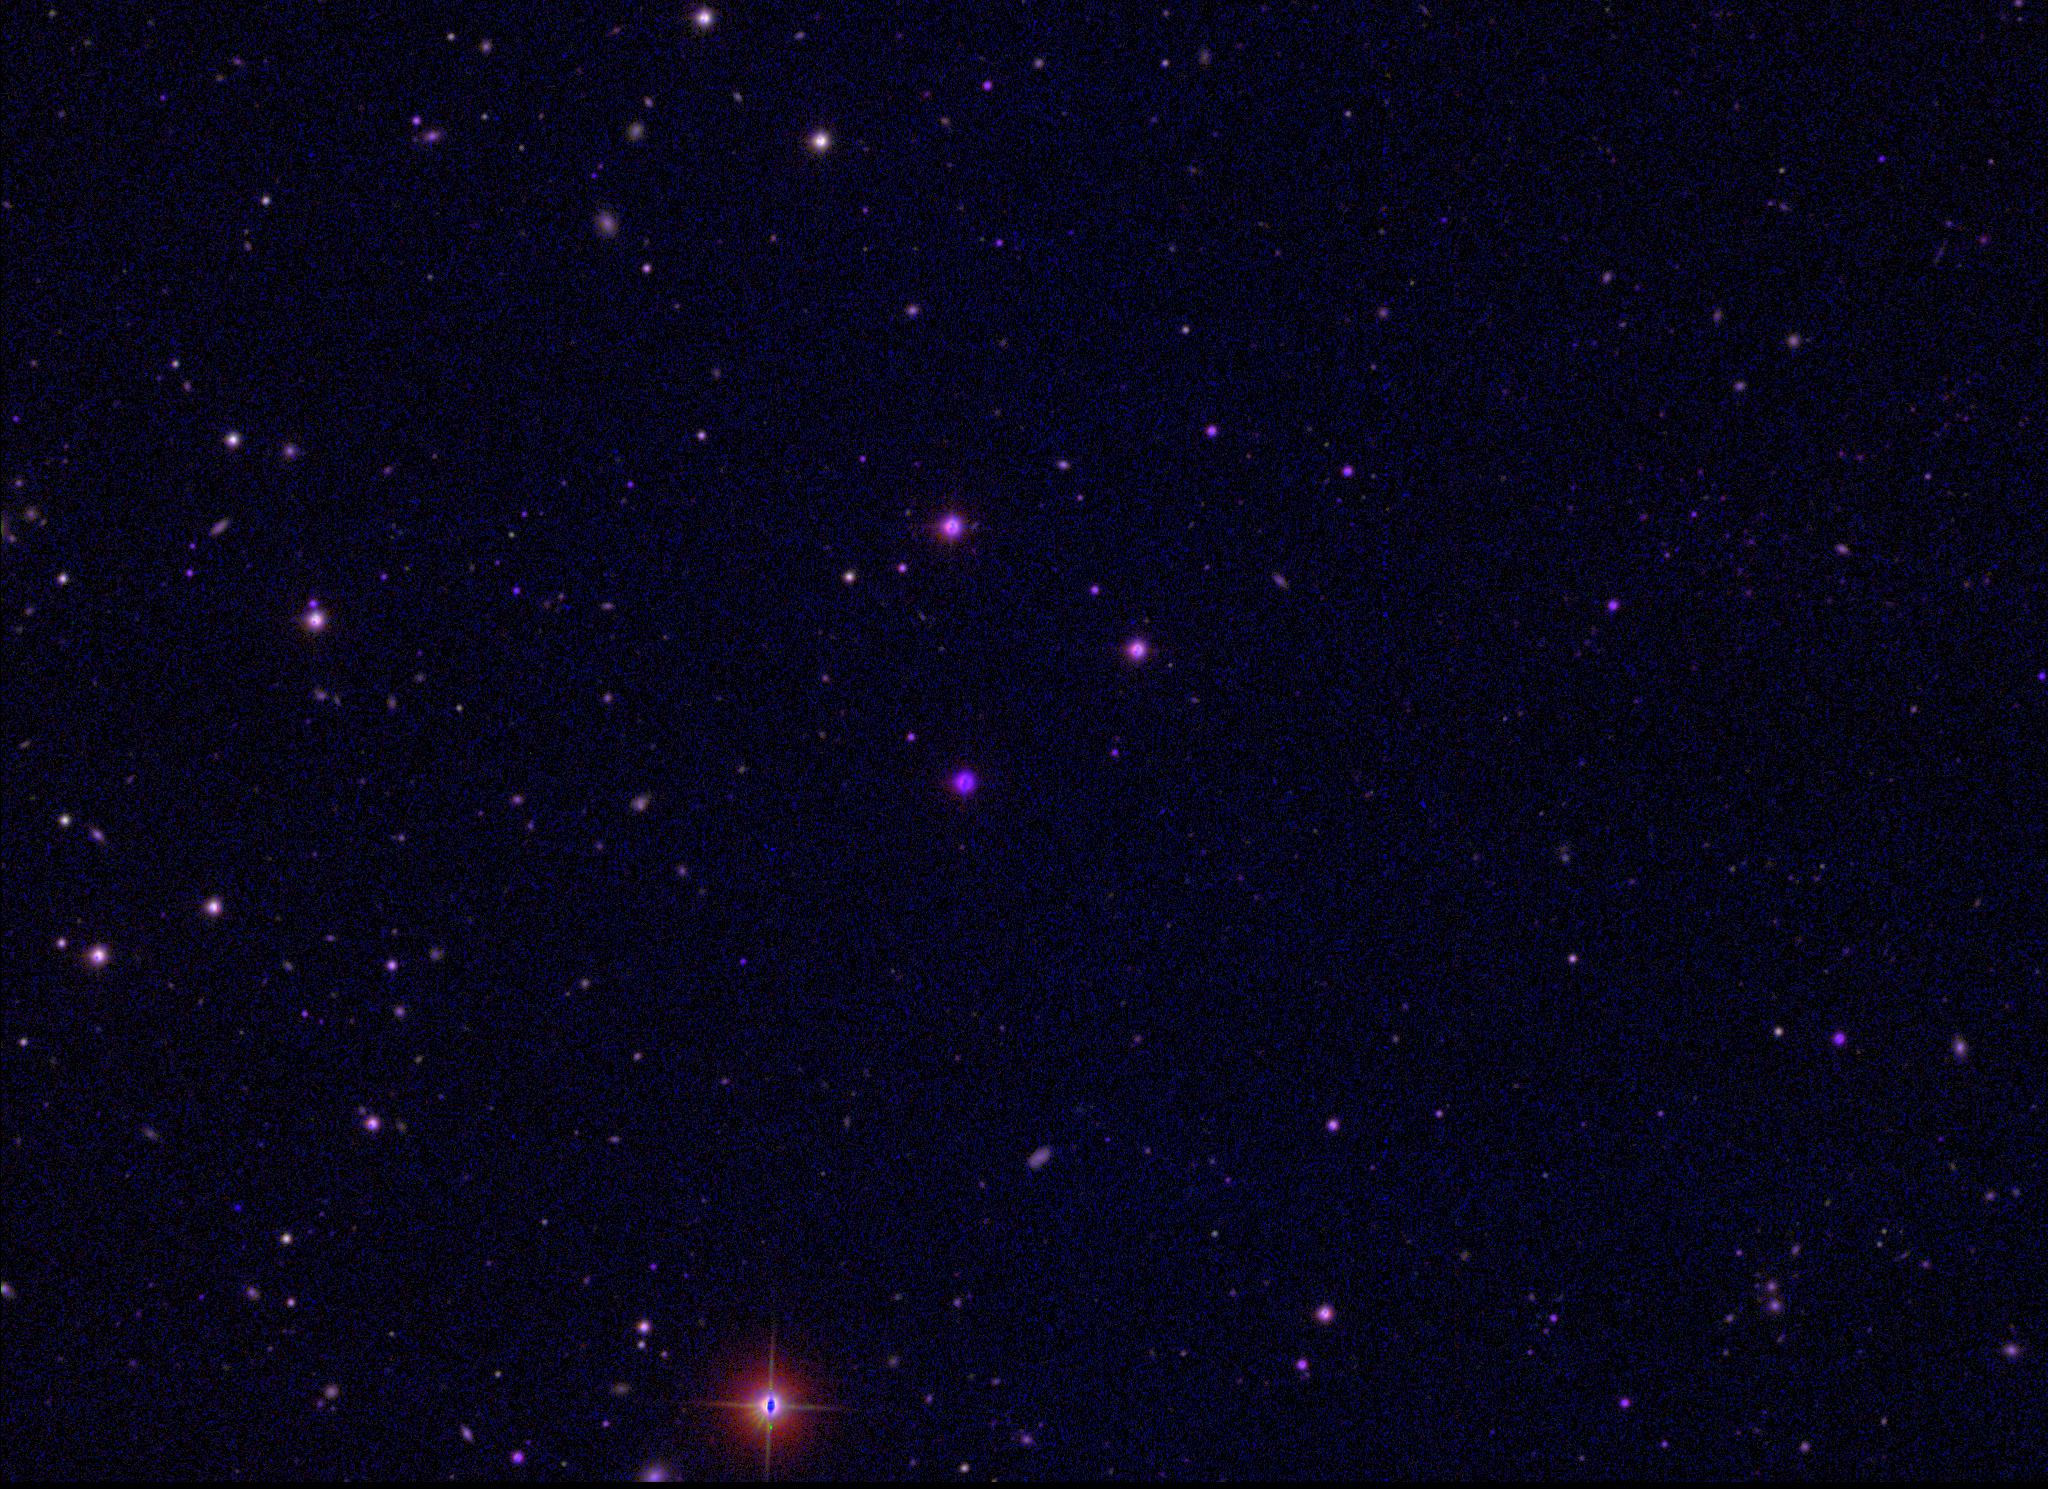L: (231, 1201, 245, 1215)
